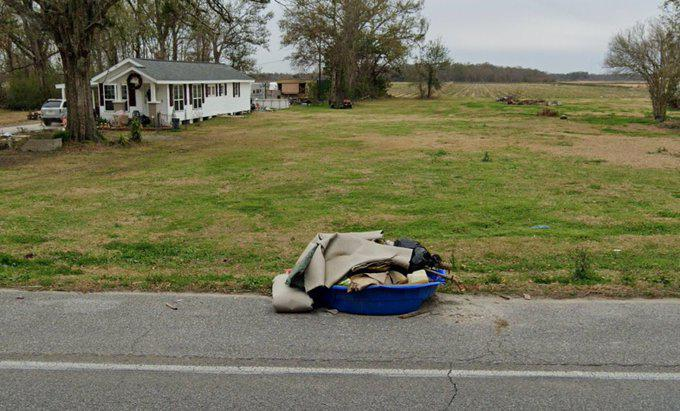affected: (32, 52, 258, 151)
